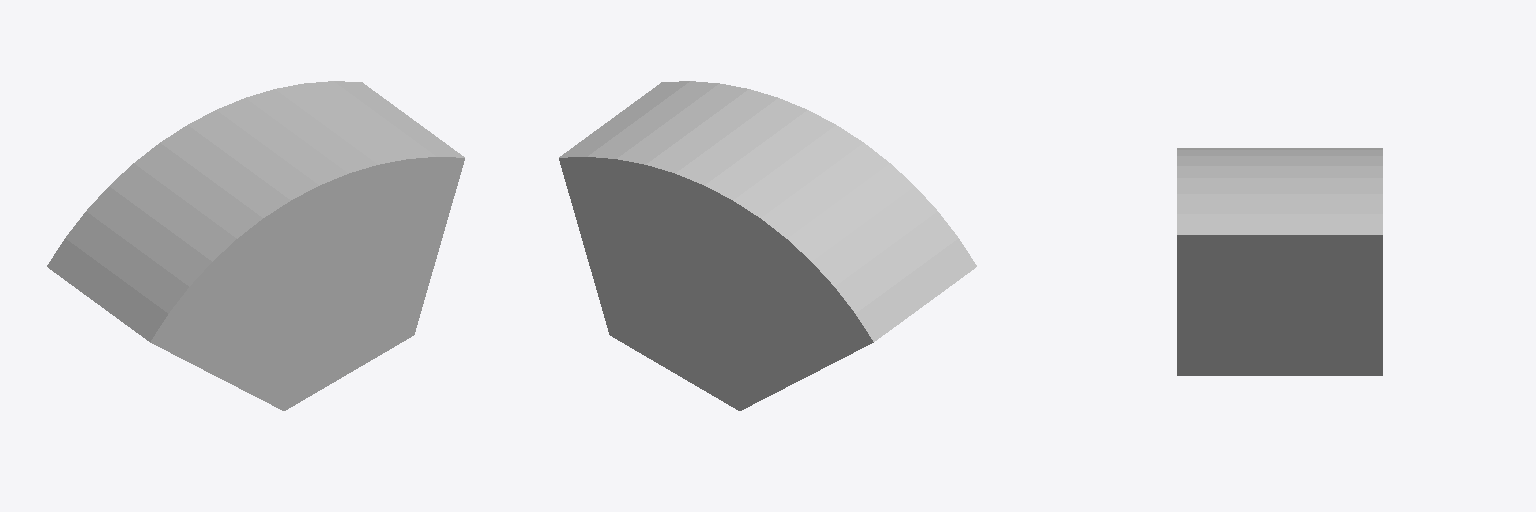
Rendered from round_pentagon_hole_4.obj.
3 views of the same model, side by side, from view 1: azimuth 30°, elevation 25°; view 2: azimuth 150°, elevation 25°; view 3: azimuth 270°, elevation 25° (orthographic).
Parts seen in each view (by area): view 1: Body120; view 2: Body120; view 3: Body120.
Part boxes in pixels (x1,y1,x2,y2): Body120: (47,81,464,410); Body120: (559,81,976,410); Body120: (1177,148,1382,375).
Bounding box in the file's own units: 0.0704 × 0.0477 × 0.04.